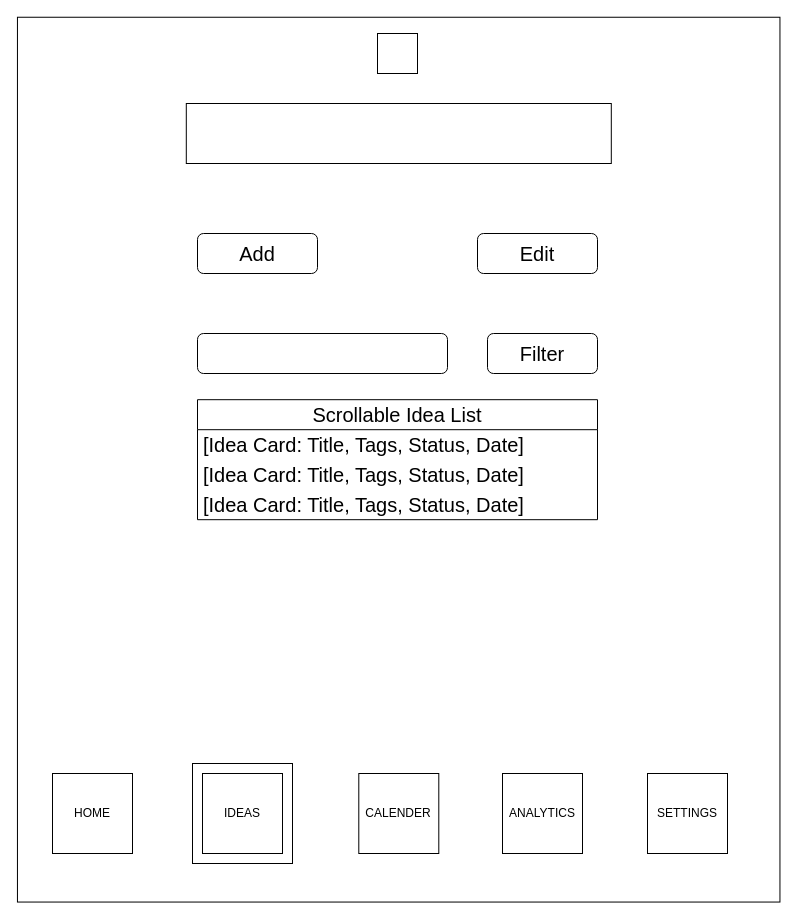
The diagram is 798 pixels wide and 920 high, and some of its shapes have lost their labels. Each missing label, with the centre of its shape:
IdeaBoard: (x=398, y=133)
Logo: (x=397, y=53)
SEARCH BAR: (x=322, y=353)
